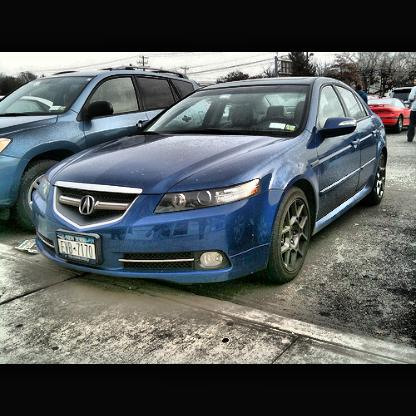Acura TL Type-S 2008: (33, 78, 391, 291)
